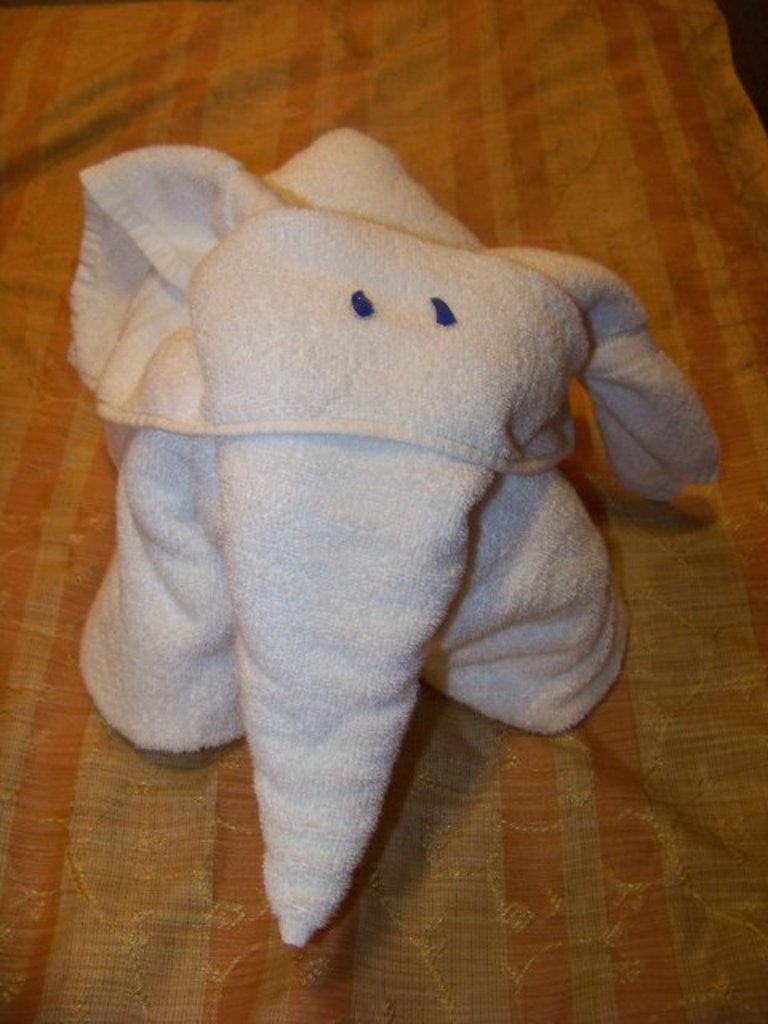Animal: (63, 121, 720, 951)
